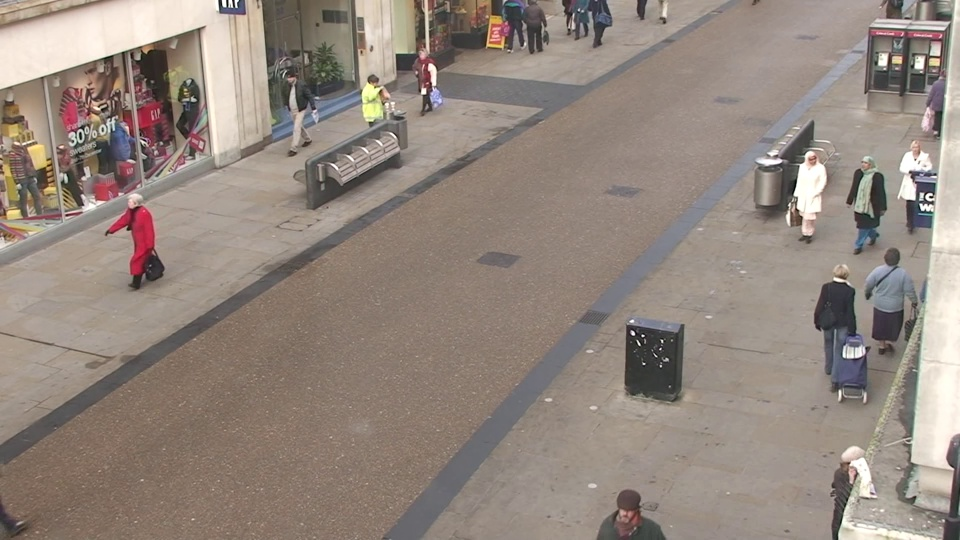pedestrian: (819, 433, 885, 540), (861, 243, 914, 374), (812, 256, 863, 390), (116, 188, 164, 300), (889, 136, 935, 240), (842, 150, 886, 257), (789, 146, 828, 251), (917, 64, 960, 152), (596, 482, 657, 540), (360, 71, 390, 154), (279, 68, 309, 149), (412, 45, 440, 121)
